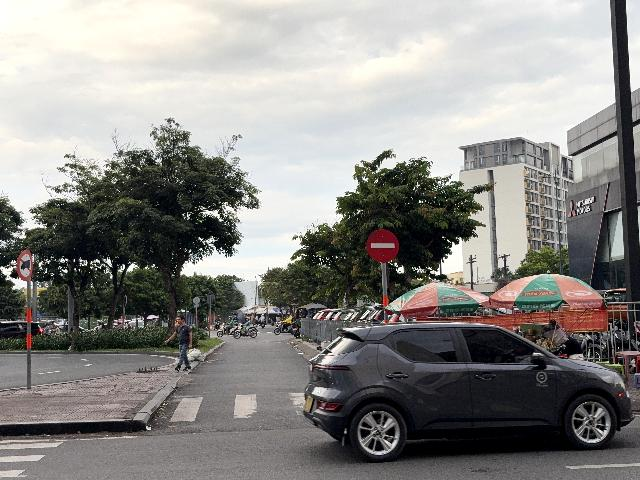cam-di-nguoc-chieu: (367, 229, 398, 263)
